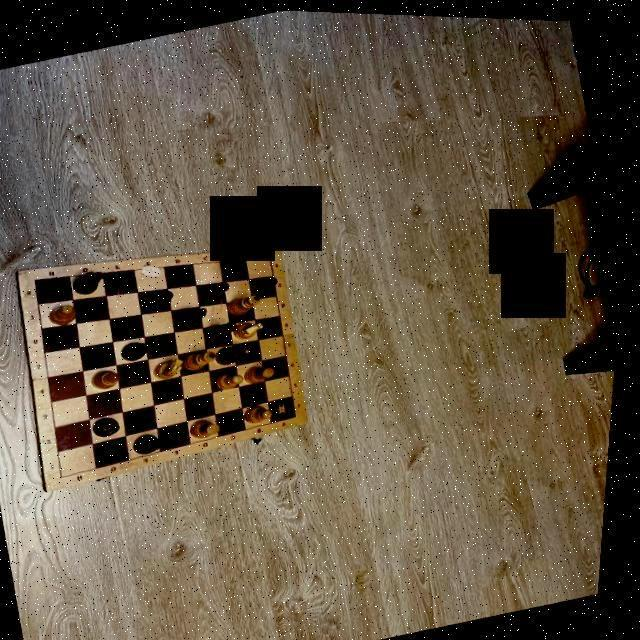chess-table-corners: (296, 410, 304, 418), (268, 250, 276, 258), (36, 277, 42, 282), (65, 474, 71, 479)
